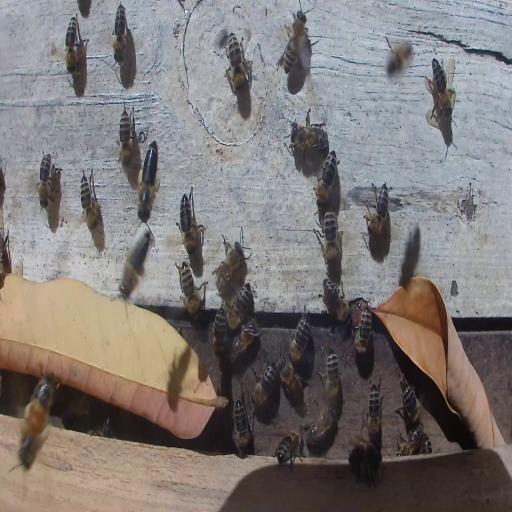nonpollenbee: (288, 107, 328, 167), (215, 229, 251, 286), (424, 58, 458, 117), (176, 258, 206, 318), (279, 10, 308, 72), (178, 188, 202, 257), (349, 440, 381, 487), (314, 150, 339, 208), (365, 180, 390, 238), (226, 34, 250, 94), (79, 166, 100, 234), (317, 209, 342, 266), (304, 403, 336, 446), (279, 356, 304, 410), (323, 278, 351, 324), (232, 397, 253, 457), (322, 344, 340, 414), (288, 306, 310, 362), (274, 430, 304, 470), (226, 283, 252, 329), (36, 148, 54, 214), (385, 37, 414, 75), (400, 380, 422, 428), (251, 366, 277, 405), (366, 383, 382, 446), (355, 298, 373, 354), (118, 107, 133, 169), (112, 3, 127, 62), (232, 324, 258, 358), (65, 14, 78, 75), (398, 426, 425, 455), (211, 311, 227, 358), (1, 226, 11, 278)
pollenbee: (17, 372, 57, 472), (118, 226, 152, 301), (136, 135, 162, 221)
